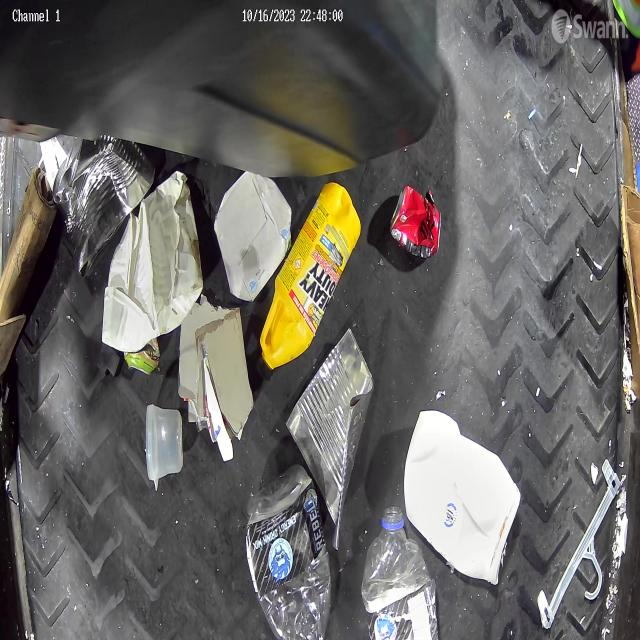can: (53, 135, 155, 279), (391, 184, 442, 259), (124, 337, 160, 375)
milk_jug: (404, 412, 522, 585)
non_white_jug: (256, 182, 361, 381)
plastic_bottle: (246, 462, 332, 640), (361, 506, 433, 638)
